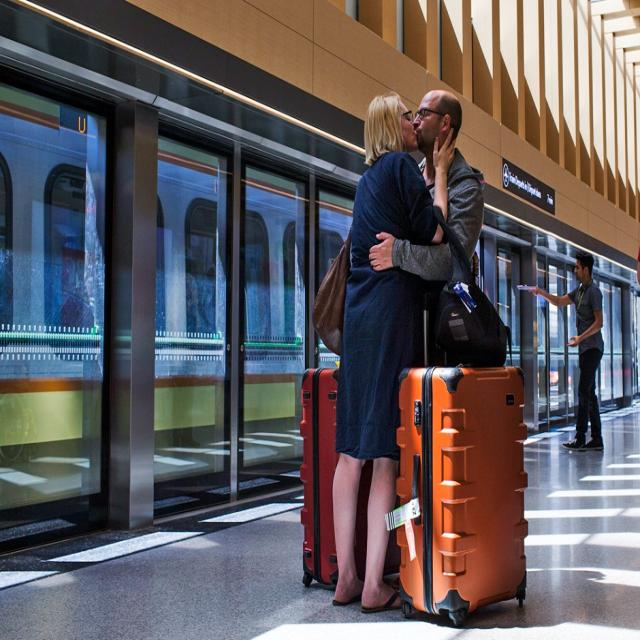body: (329, 93, 455, 609), (368, 88, 487, 589), (0, 261, 299, 343), (526, 248, 605, 452), (163, 345, 204, 455), (473, 248, 480, 290), (636, 245, 640, 287)
